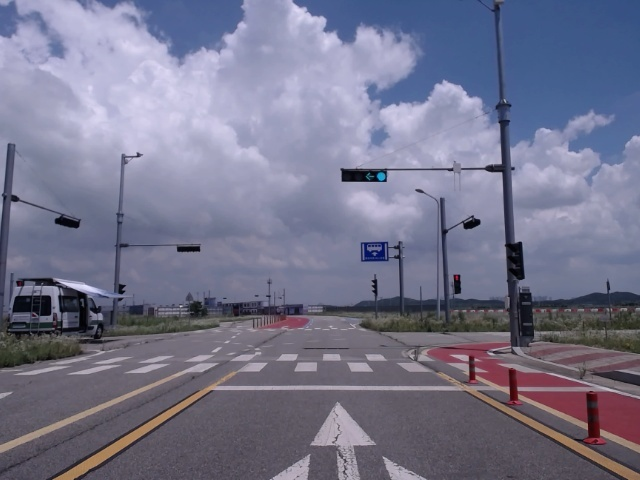all_green_4: (342, 170, 386, 182)
